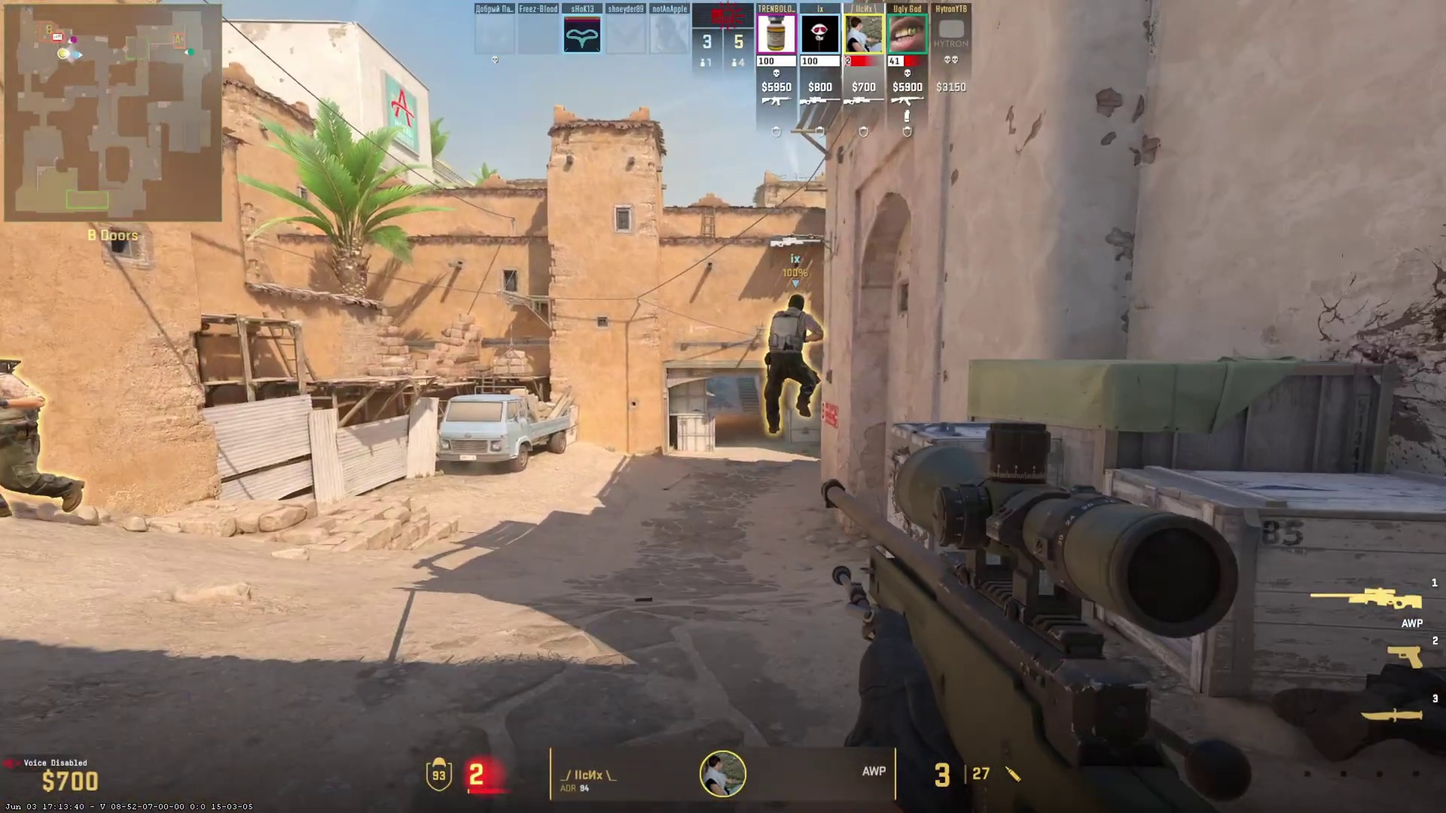Terrorist: (766, 295, 821, 432)
